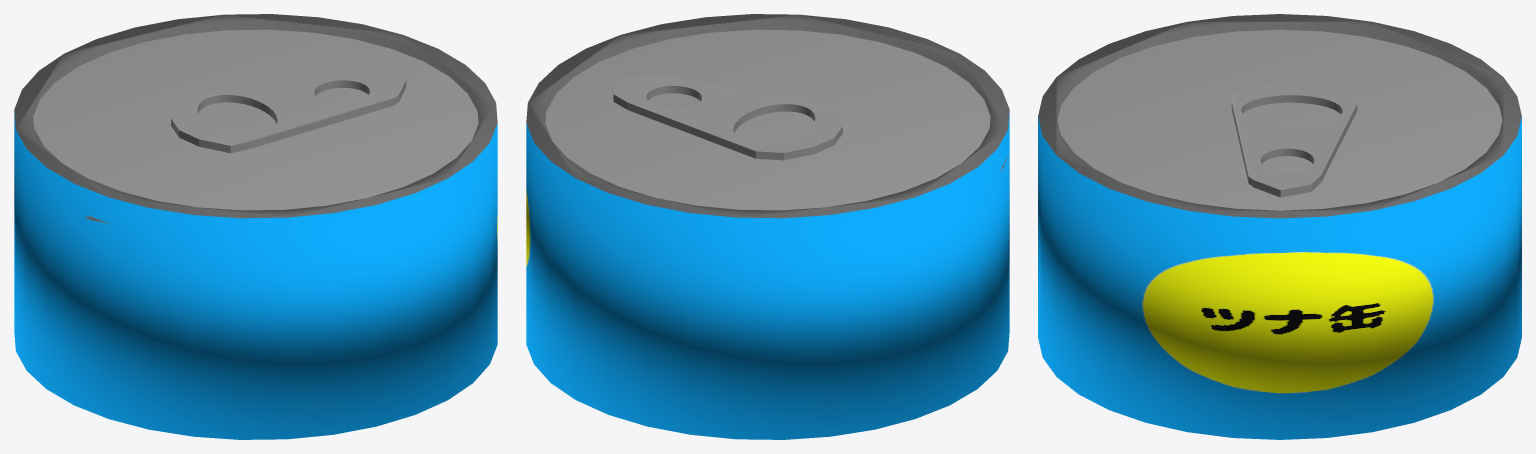
File: tunaCan.gltf
3 renders of one model, left to right at view 1: azimuth 30°, elevation 25°; view 2: azimuth 150°, elevation 25°; view 3: azimuth 270°, elevation 25°, orthographic.
Visible parts, largest first — view 1: 円柱, 立方体; view 2: 円柱, 立方体; view 3: 円柱, 立方体.
Boxes of the visible parts, box(x1,y1,x2,y2) form: 円柱: box(14, 14, 497, 439); 立方体: box(33, 29, 478, 210); 円柱: box(526, 14, 1009, 439); 立方体: box(545, 29, 990, 210); 円柱: box(1038, 14, 1521, 439); 立方体: box(1057, 29, 1502, 210).
Bounding box in the file's own units: 2 × 1.01 × 2.
Materials: 2 (2 with a texture image).
